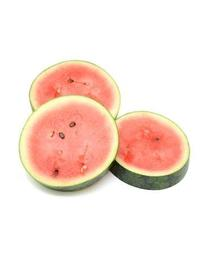watermelon: (16, 59, 192, 189)
